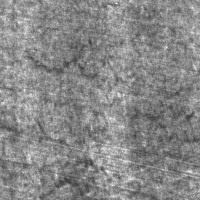crazing: (11, 28, 128, 87), (131, 86, 199, 185), (9, 135, 114, 198)
